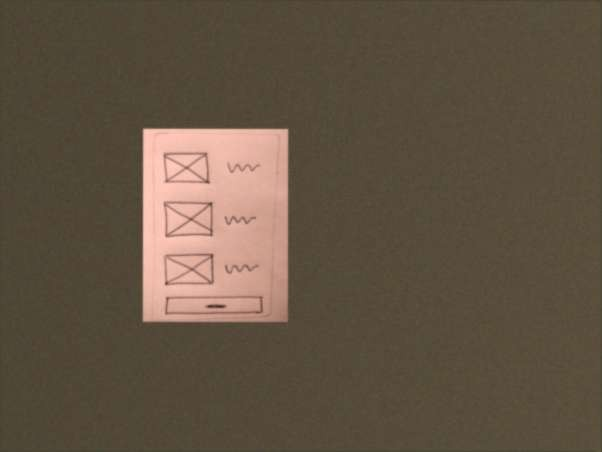button: (162, 295, 264, 318)
image: (161, 200, 216, 241), (160, 253, 217, 289), (161, 150, 211, 188)
text: (224, 159, 262, 178), (223, 212, 259, 229), (224, 261, 260, 278)
